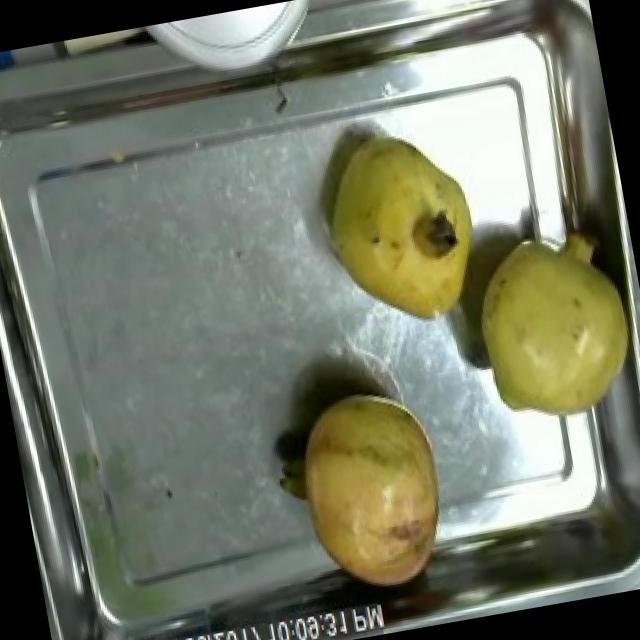fruit: (306, 108, 498, 346), (453, 205, 640, 441), (277, 372, 463, 606)
